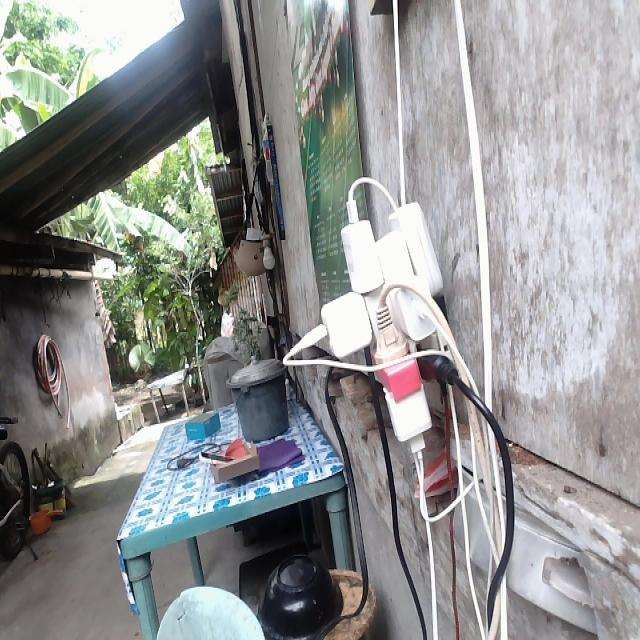-: (315, 202, 445, 450)
